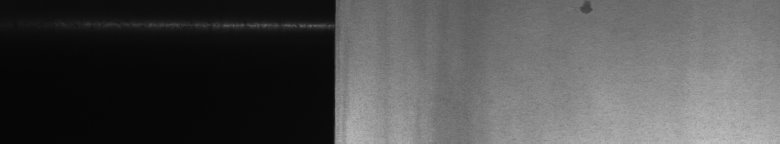fi: (576, 4, 596, 20)
